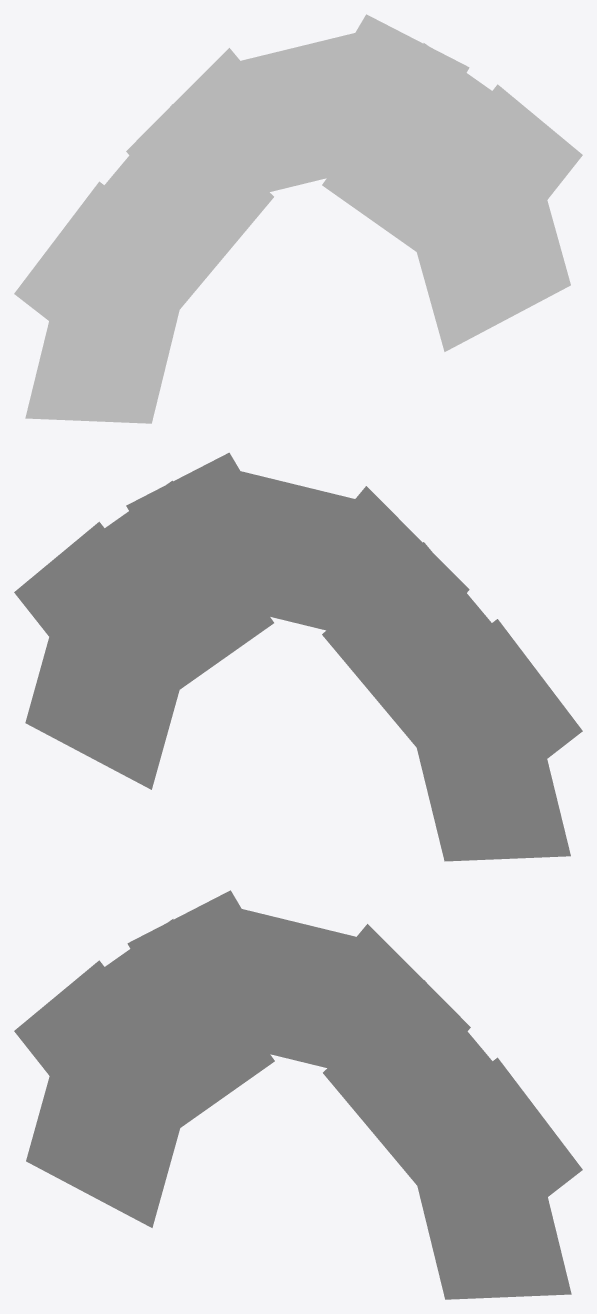
The model's file is SM_Lotus.fbx.
The picture shows the model from 3 angles, top to bottom: view 1: azimuth 30°, elevation 25°; view 2: azimuth 150°, elevation 25°; view 3: azimuth 330°, elevation 25°; orthographic projection.
Visible parts, largest first — view 1: group_pPlane8; view 2: group_pPlane8; view 3: group_pPlane8.
Part boxes in pixels (x1=…): group_pPlane8: x1=14, y1=14, x2=582, y2=423; group_pPlane8: x1=14, y1=452, x2=582, y2=861; group_pPlane8: x1=14, y1=890, x2=582, y2=1299.
Size of the model in its own units: 307 by 184 by 0.594.
1 material, 1 textured.
